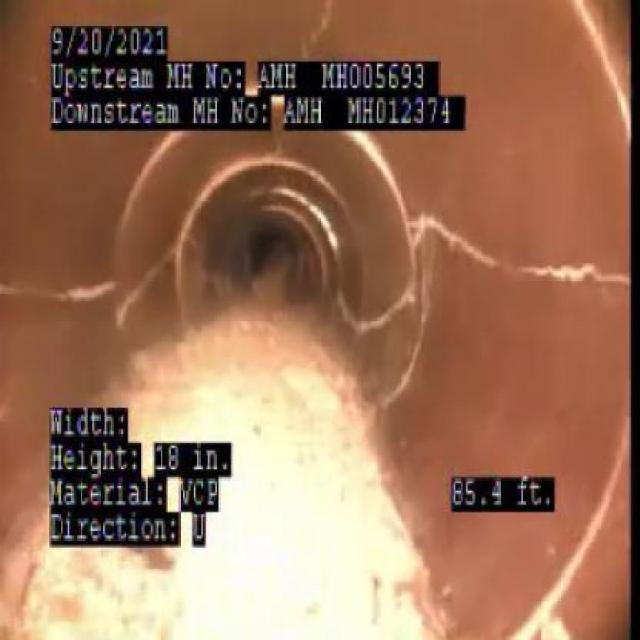Crack: (411, 201, 503, 277), (511, 242, 631, 298), (0, 272, 122, 306)
